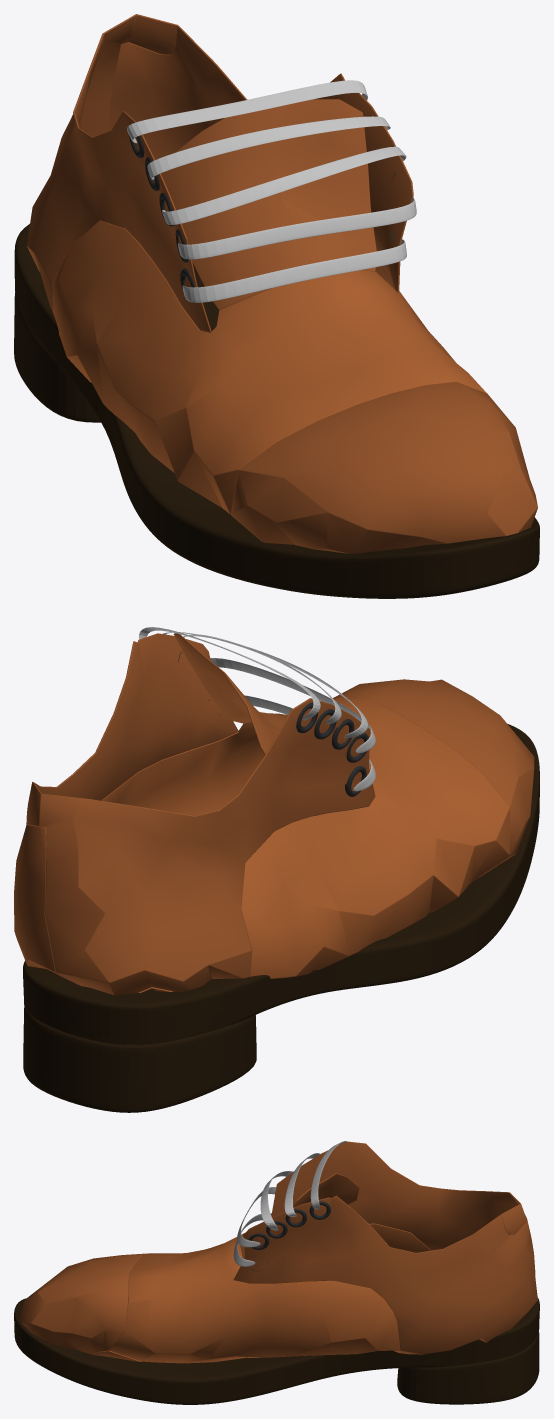
File: za1ot1derecha.fbx
The picture shows the model from 3 angles, top to bottom: view 1: azimuth 30°, elevation 25°; view 2: azimuth 150°, elevation 25°; view 3: azimuth 270°, elevation 25°; orthographic projection. The views are drawn at different scales.
Visible parts, largest first — view 1: ZAPATO1_3, Plane, Plane.002, Plane.005, Plane.001, Plane.004, Plane.003; view 2: ZAPATO1_3, Plane, Plane.002, Plane.004, Plane.005, Plane.001; view 3: ZAPATO1_3, Plane, Plane.001, Plane.004, Plane.003, Plane.002, Plane.005.
Part boxes in pixels (left/top/right/bottom): ZAPATO1_3: left=27, top=14, right=537, bottom=553; Plane: left=14, top=224, right=539, bottom=598; Plane.002: left=178, top=197, right=416, bottom=259; Plane.005: left=182, top=239, right=406, bottom=302; Plane.001: left=162, top=146, right=406, bottom=224; Plane.004: left=127, top=80, right=367, bottom=143; Plane.003: left=147, top=116, right=390, bottom=179; ZAPATO1_3: left=14, top=633, right=534, bottom=995; Plane: left=23, top=724, right=539, bottom=1112; Plane.002: left=210, top=658, right=375, bottom=753; Plane.004: left=139, top=627, right=320, bottom=720; Plane.005: left=244, top=695, right=375, bottom=791; Plane.001: left=183, top=634, right=367, bottom=737; ZAPATO1_3: left=19, top=1141, right=537, bottom=1363; Plane: left=14, top=1298, right=539, bottom=1404; Plane.001: left=260, top=1171, right=293, bottom=1230; Plane.004: left=310, top=1141, right=347, bottom=1209; Plane.003: left=284, top=1153, right=320, bottom=1216; Plane.002: left=237, top=1187, right=276, bottom=1247; Plane.005: left=233, top=1213, right=271, bottom=1266.
Bounding box in the file's own units: 174 × 204 × 447.
